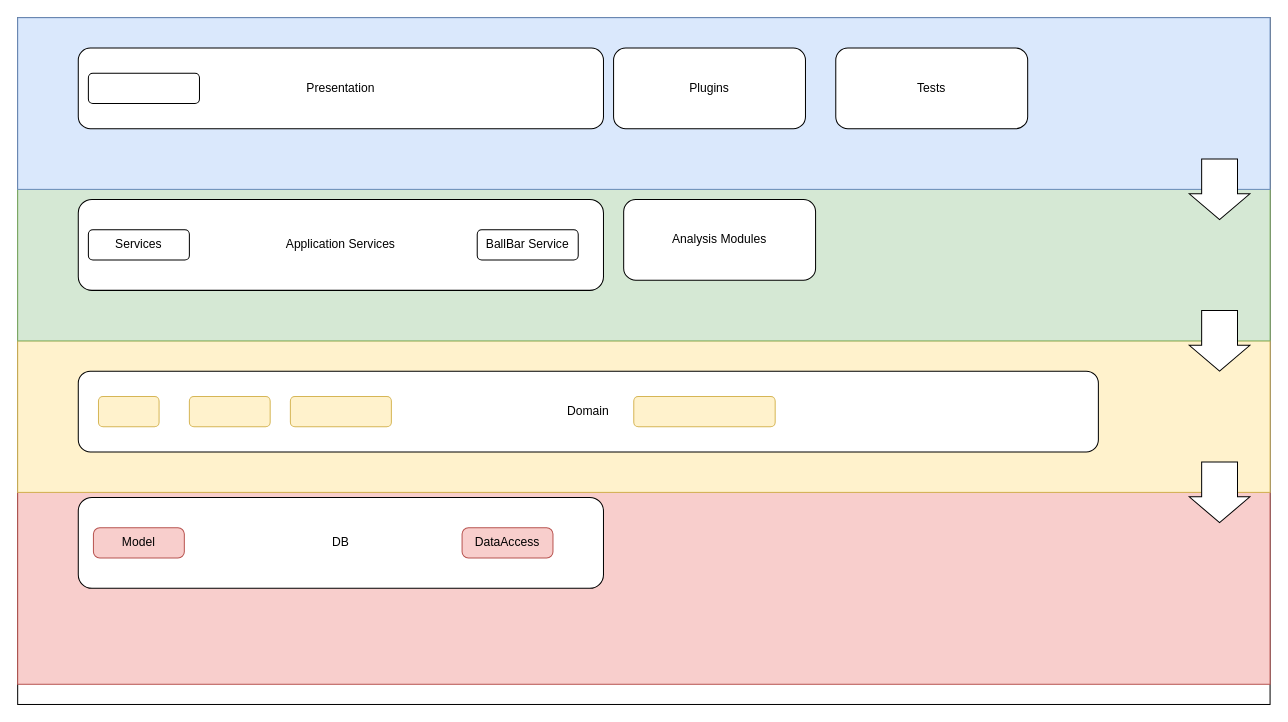
This 1288x722 diagram has some shape labels left out. The shapes that lost their labels are listed below. From the top down, each one's centre as x and y in pixels, then its label:
[143,88]: View-ViewModel
[128,411]: Unit
[229,411]: Languages
[340,411]: Ballbar Device
[704,411]: Analysis Feautes
